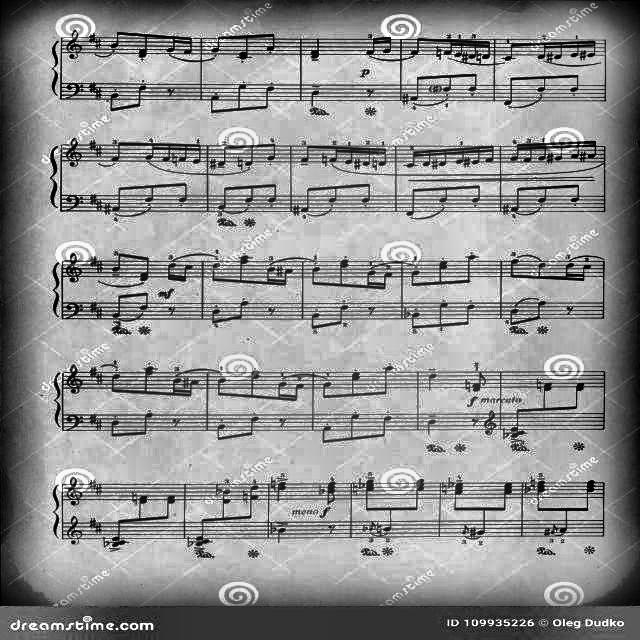Bass-clef: (62, 78, 78, 106), (62, 298, 78, 322), (66, 192, 80, 215), (63, 413, 79, 433)
Bemol: (209, 479, 223, 497), (314, 481, 326, 499), (502, 410, 508, 442), (522, 481, 530, 499), (402, 308, 410, 324), (268, 522, 276, 538), (99, 538, 109, 550), (186, 536, 194, 548), (448, 478, 456, 490), (360, 474, 364, 494), (364, 524, 368, 532)
Diez: (80, 234, 98, 270), (578, 41, 590, 64), (548, 38, 556, 68), (92, 33, 105, 51), (500, 197, 510, 219), (429, 155, 441, 173), (290, 201, 302, 219), (85, 473, 96, 491), (96, 412, 104, 436), (89, 408, 98, 428), (276, 264, 284, 286), (462, 155, 472, 171), (547, 152, 557, 168), (579, 147, 589, 163), (89, 362, 99, 378), (88, 135, 96, 153), (208, 156, 216, 174), (352, 154, 360, 172), (94, 197, 102, 215), (96, 259, 104, 277), (468, 526, 477, 542), (96, 479, 104, 496), (88, 78, 96, 94), (402, 90, 410, 106), (94, 372, 102, 388), (85, 193, 96, 204), (88, 28, 95, 44), (95, 142, 102, 158), (96, 307, 104, 321), (90, 298, 98, 312), (182, 377, 190, 391), (463, 48, 469, 66), (104, 202, 112, 214), (90, 516, 98, 528), (96, 520, 104, 532), (430, 82, 440, 91), (96, 87, 104, 97), (540, 527, 548, 537)
Eighth-note: (510, 405, 530, 443), (234, 32, 252, 68), (464, 250, 482, 286), (400, 186, 420, 218), (436, 258, 456, 290), (403, 31, 425, 57), (402, 265, 424, 291), (129, 292, 155, 314), (139, 367, 157, 398), (334, 253, 350, 287), (134, 28, 150, 61), (580, 477, 596, 509), (216, 182, 232, 212), (264, 25, 282, 51), (502, 77, 518, 106), (354, 180, 374, 202), (138, 251, 150, 287), (501, 254, 519, 278), (347, 374, 365, 398), (411, 74, 425, 104), (242, 142, 258, 168), (264, 180, 282, 202), (470, 374, 488, 396), (110, 140, 124, 168), (208, 32, 224, 56), (174, 178, 190, 202), (114, 288, 126, 320), (224, 486, 236, 518), (414, 476, 426, 508), (344, 416, 360, 439), (433, 306, 451, 326), (505, 306, 525, 324), (382, 366, 394, 396), (210, 424, 230, 442), (264, 139, 280, 161), (236, 82, 248, 111), (107, 92, 121, 116), (297, 142, 311, 166), (544, 369, 552, 411), (478, 510, 490, 538), (109, 416, 123, 439), (570, 182, 586, 202), (239, 253, 249, 285), (246, 371, 258, 397), (470, 183, 484, 205), (114, 182, 122, 220), (250, 478, 258, 516), (114, 26, 126, 50), (310, 264, 322, 288), (318, 426, 334, 444), (424, 417, 440, 435), (436, 184, 450, 204), (512, 188, 522, 216), (240, 185, 256, 202), (536, 185, 552, 202), (366, 474, 374, 508), (534, 258, 546, 280), (137, 85, 147, 111), (329, 479, 339, 505), (204, 96, 220, 112), (532, 76, 548, 92), (310, 314, 326, 330), (456, 480, 464, 512), (108, 372, 120, 393), (536, 478, 544, 509), (570, 72, 582, 92), (220, 146, 232, 166), (302, 187, 310, 217), (114, 248, 122, 278), (534, 303, 546, 323), (141, 414, 153, 434), (141, 492, 151, 516), (504, 479, 512, 509), (164, 492, 173, 518), (210, 256, 218, 284), (562, 508, 570, 536), (468, 69, 478, 91), (145, 181, 155, 203), (262, 88, 274, 106), (324, 185, 336, 203), (238, 302, 248, 322), (411, 312, 421, 332), (250, 417, 260, 437), (202, 520, 210, 544), (218, 378, 228, 397), (116, 521, 122, 551), (340, 304, 348, 324), (383, 415, 389, 441), (444, 74, 452, 92), (386, 511, 392, 534), (212, 311, 220, 325), (465, 306, 473, 320), (550, 522, 558, 536), (377, 523, 383, 539), (462, 524, 468, 534), (371, 521, 377, 529), (364, 264, 364, 292)
Eighth-rest: (557, 302, 577, 320), (366, 302, 382, 321), (276, 414, 292, 432), (266, 300, 278, 322), (172, 410, 184, 432), (362, 84, 378, 100), (164, 82, 176, 101), (166, 302, 178, 321), (465, 418, 479, 429), (491, 430, 494, 432)
Quarter-note: (299, 28, 327, 64), (568, 376, 590, 408), (423, 373, 439, 392), (310, 89, 322, 107), (280, 526, 286, 542)
Quarter-rest: (322, 524, 338, 532)
Sixteenth-note: (363, 265, 397, 289), (553, 38, 567, 70), (142, 136, 156, 164), (405, 145, 419, 171), (482, 143, 496, 169), (318, 379, 334, 401), (189, 142, 203, 166), (358, 139, 369, 169), (564, 38, 580, 58), (178, 260, 194, 280), (274, 380, 290, 400), (506, 42, 518, 68), (521, 142, 533, 168), (589, 141, 601, 167), (362, 34, 376, 56), (164, 259, 178, 281), (578, 265, 592, 287), (352, 143, 361, 177), (564, 262, 576, 286), (296, 380, 308, 404), (183, 31, 194, 57), (469, 38, 479, 66), (588, 32, 598, 60), (473, 146, 483, 174), (380, 36, 392, 58), (378, 142, 389, 166), (168, 372, 180, 393), (166, 34, 178, 54), (422, 144, 430, 174), (454, 144, 464, 168), (511, 142, 521, 166), (343, 142, 351, 170), (261, 268, 275, 284), (439, 150, 448, 173), (555, 142, 565, 162), (538, 41, 546, 65), (444, 36, 452, 59), (485, 38, 491, 66), (195, 372, 201, 400), (572, 142, 580, 162), (164, 142, 170, 166), (181, 142, 187, 166), (286, 266, 292, 290), (456, 36, 460, 64), (332, 143, 336, 169), (542, 140, 546, 163)
Treble-clef: (59, 132, 83, 168), (62, 516, 86, 548), (66, 26, 82, 64), (66, 361, 82, 395), (68, 474, 82, 510), (68, 254, 80, 286), (485, 409, 493, 439)
